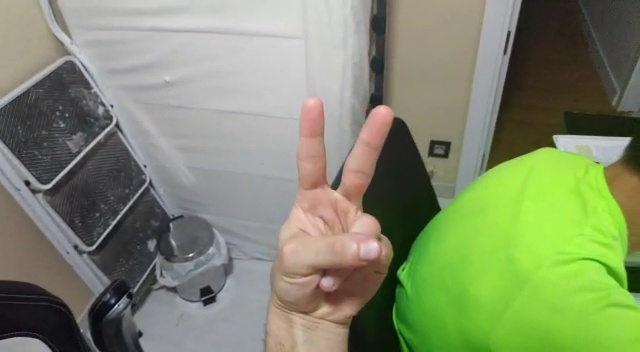Peace: (257, 94, 401, 312)
